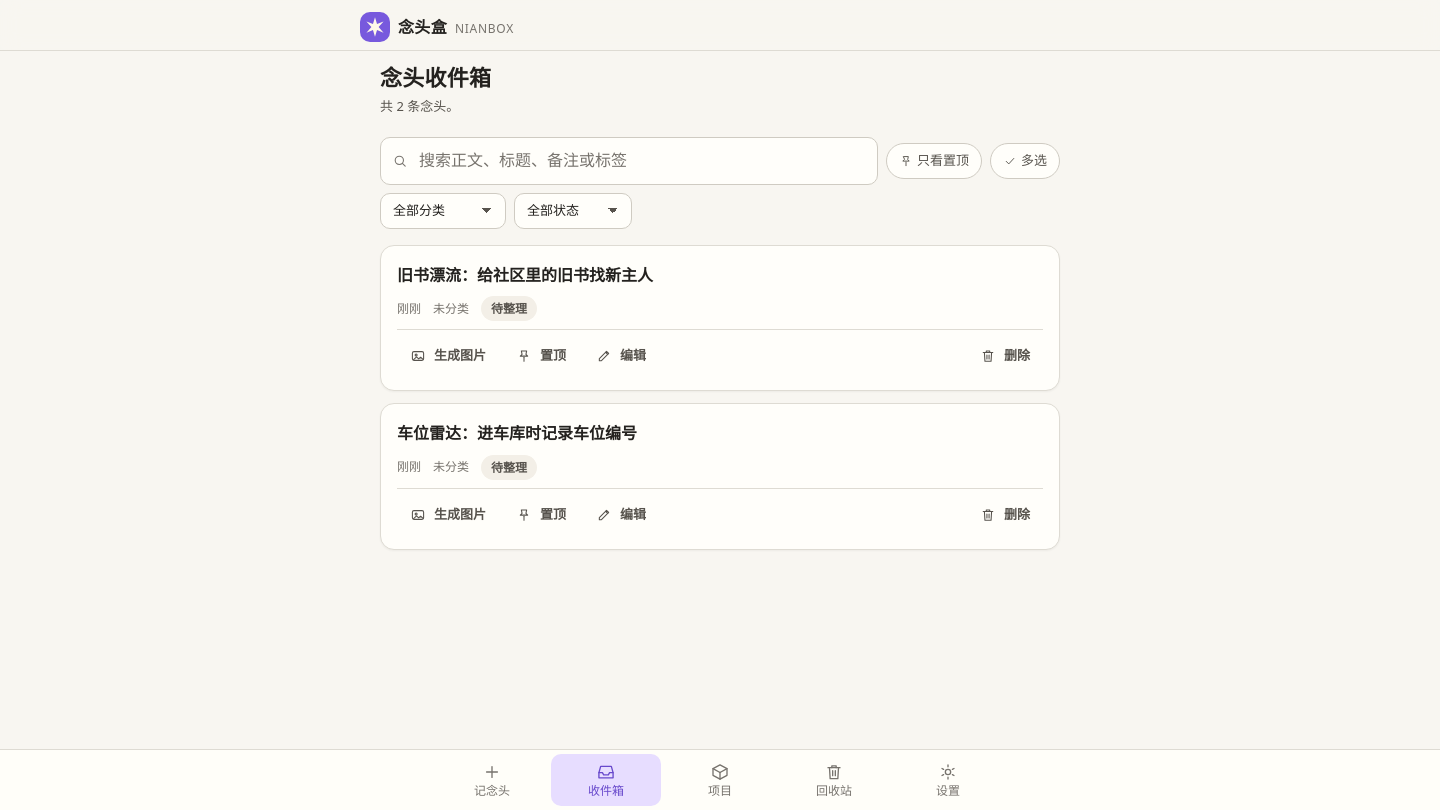
Test: 念头收件箱 › 搜索可以按关键词筛出匹配的念头，并在无结果时提示
The width and height of the screenshot is (1440, 810).
Check: the text "车位雷达：进车库时记录车位编号" is shown, box top-left (397, 422), bottom-right (637, 444)
Check: the text "旧书漂流：给社区里的旧书找新主人" is shown, box top-left (397, 264), bottom-right (653, 286)
Type "车位" into the search field named "搜索念头".
click(629, 161); type("车位")  # box top-left (380, 137), bottom-right (878, 185)
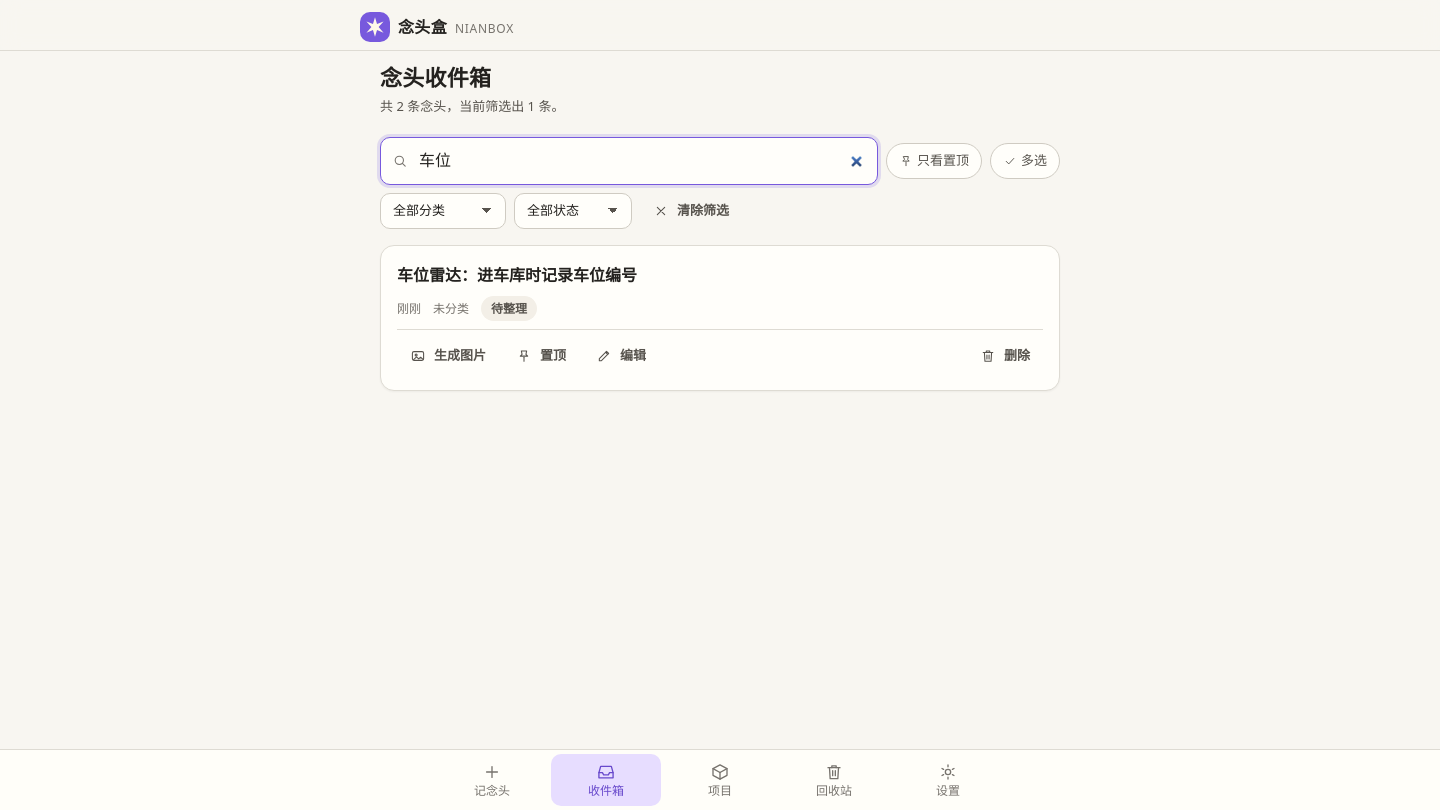
Check: the text "车位雷达：进车库时记录车位编号" is shown, box top-left (397, 264), bottom-right (637, 286)
Check: the link "旧书漂流" is gone
Replace the text in the search field named "搜索念头" with "完全不存在的内容" at coordinates (629, 161), box top-left (380, 137), bottom-right (878, 185)
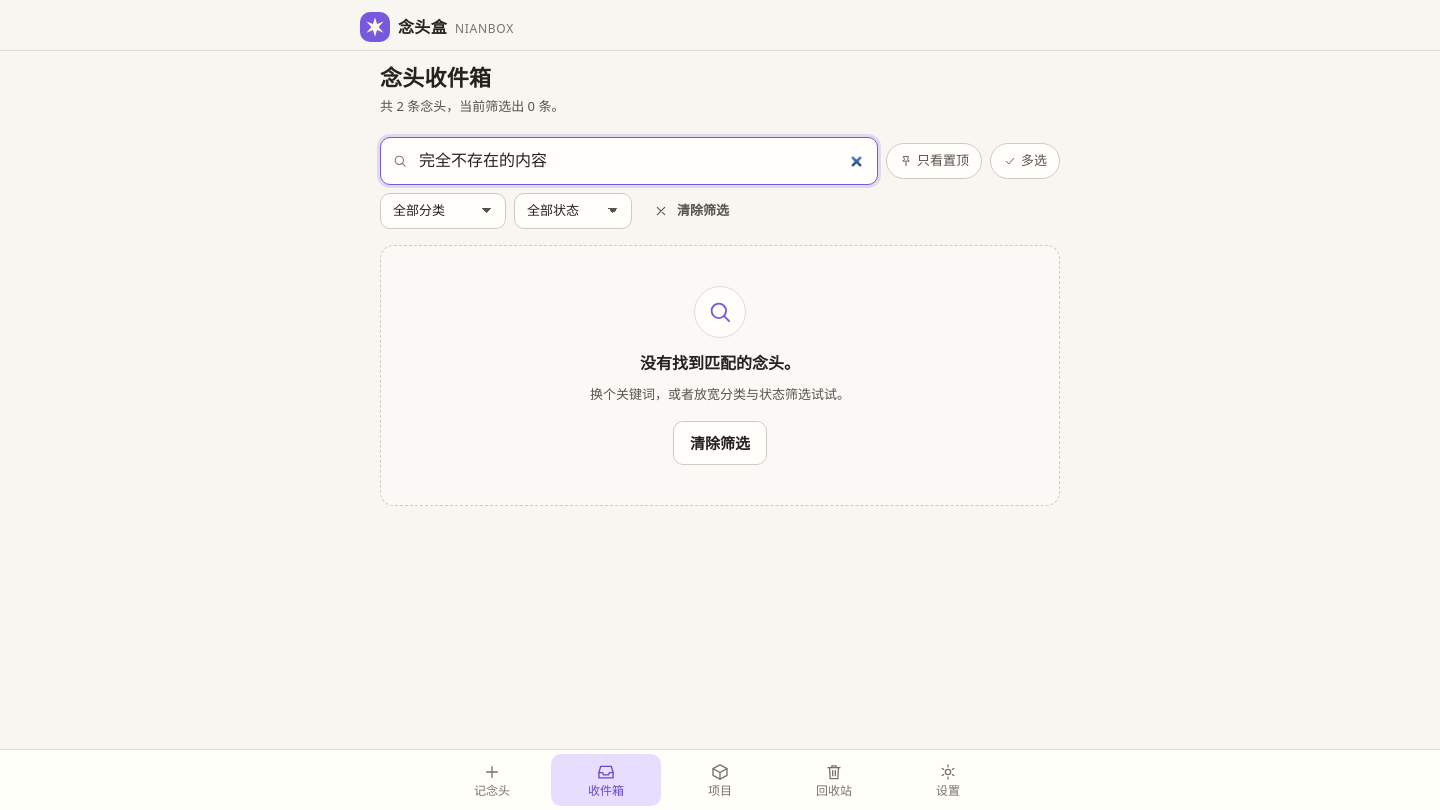
Check: the text "没有找到匹配的念头。" is shown, box top-left (640, 350), bottom-right (800, 376)
